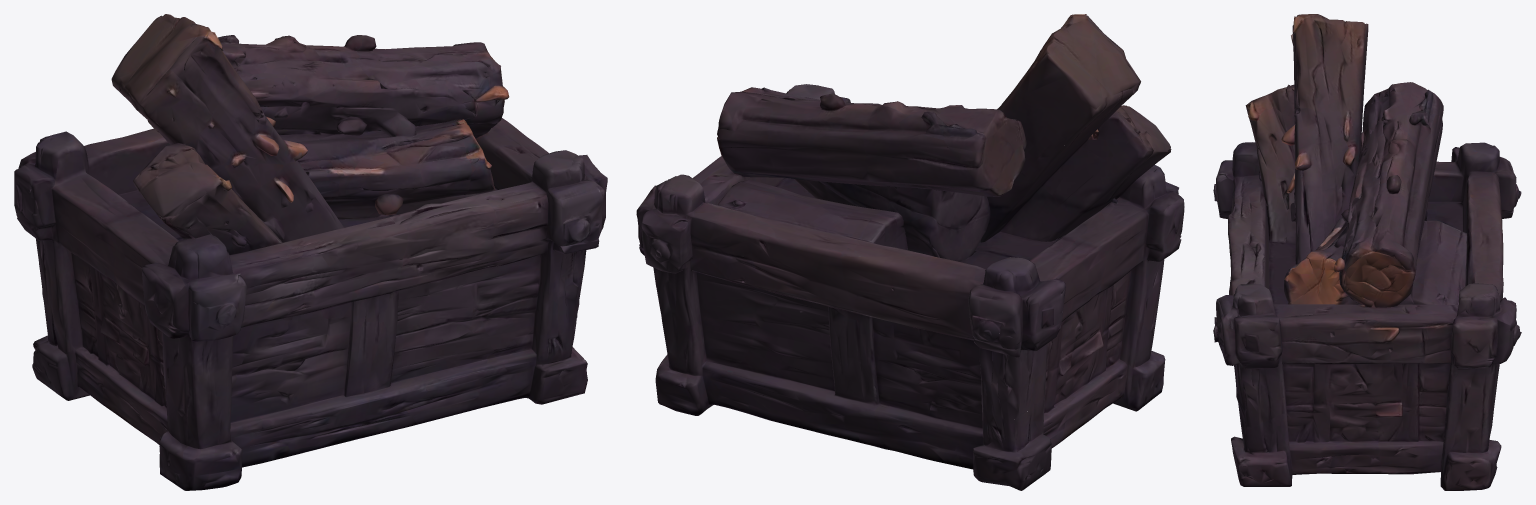
The model's file is caja-madera.glb.
3 renders of one model, left to right at view 1: azimuth 30°, elevation 25°; view 2: azimuth 150°, elevation 25°; view 3: azimuth 270°, elevation 25°, orthographic. The views are drawn at different scales.
Bounding box in the file's own units: 0.9797 × 0.8917 × 0.7267.
Materials: 1 (1 with a texture image).
